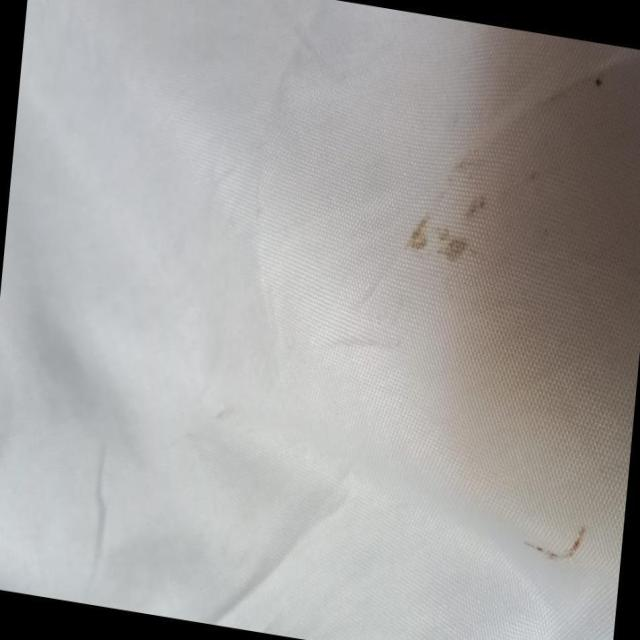stain: (406, 160, 497, 280), (524, 506, 596, 571), (589, 61, 614, 103)
